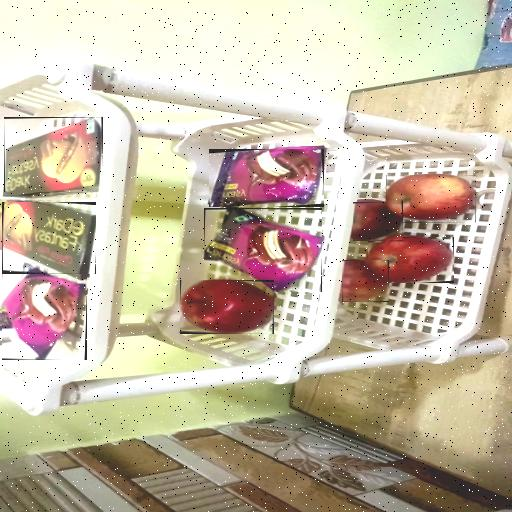Apple: (180, 280, 274, 334), (386, 176, 476, 224), (368, 237, 454, 283), (342, 260, 389, 302), (353, 202, 403, 241)
Choco Fills: (4, 117, 103, 192), (2, 202, 96, 274)
Choco Pie: (204, 208, 322, 292), (2, 269, 87, 360), (209, 149, 324, 207)
